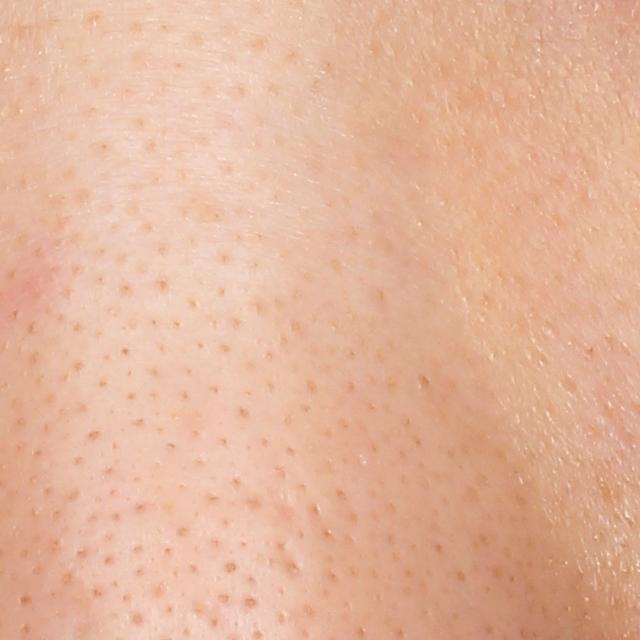atrophic_scar: (274, 535, 302, 578)
comedo: (240, 593, 260, 611)
